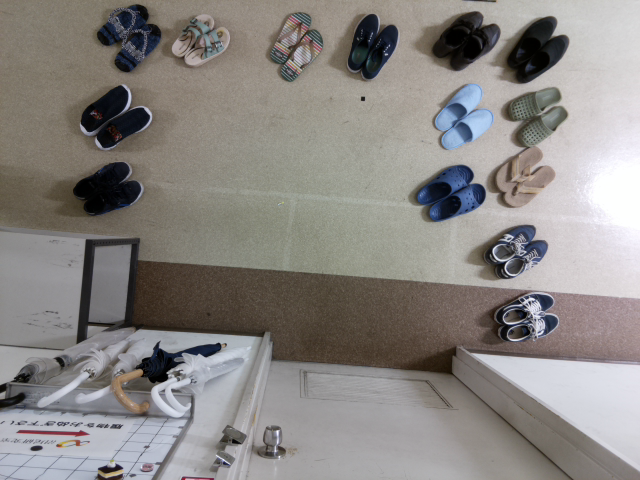Copy of Copy of Copy of Copy of Copy of Copy of Copy of Copy of Copy of Copy of: (510, 30, 572, 88), (75, 78, 134, 136), (504, 12, 561, 71), (275, 25, 326, 87), (354, 22, 403, 85), (90, 103, 154, 151), (445, 19, 504, 71), (69, 156, 133, 203), (430, 80, 486, 133), (437, 104, 497, 153), (431, 6, 486, 59), (77, 175, 146, 216), (110, 21, 162, 74), (266, 9, 314, 66), (343, 9, 382, 77), (95, 1, 151, 48), (181, 23, 233, 71), (169, 12, 218, 58)
Copy of Copy of Copy of Copy of Copy of Copy of Copy of Copy of Copy of shoe: (500, 82, 567, 123)
Copy of Copy of Copy of Copy of Copy of Copy of Copy of Copy of shoe: (512, 104, 570, 151)
Copy of Copy of Copy of Copy of Copy of Copy of Copy of shoe: (494, 143, 547, 194)
Copy of Copy of Copy of Copy of Copy of Copy of shoe: (500, 162, 557, 210)
Copy of Copy of Copy of Copy of Copy of shoe: (423, 180, 490, 226)
Copy of Copy of Copy of Copy of shoe: (404, 160, 475, 208)
Copy of Copy of Copy of shoe: (478, 220, 541, 267)
Copy of Copy of shoe: (493, 237, 554, 283)
Copy of shoe: (497, 309, 563, 347)
shoe: (492, 286, 556, 326)
